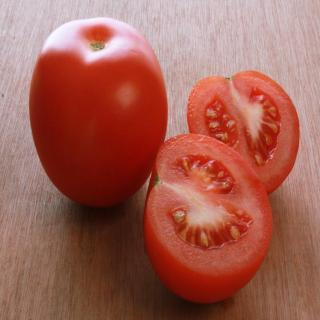tomato: (27, 16, 166, 208), (141, 133, 273, 305), (187, 70, 298, 193)
